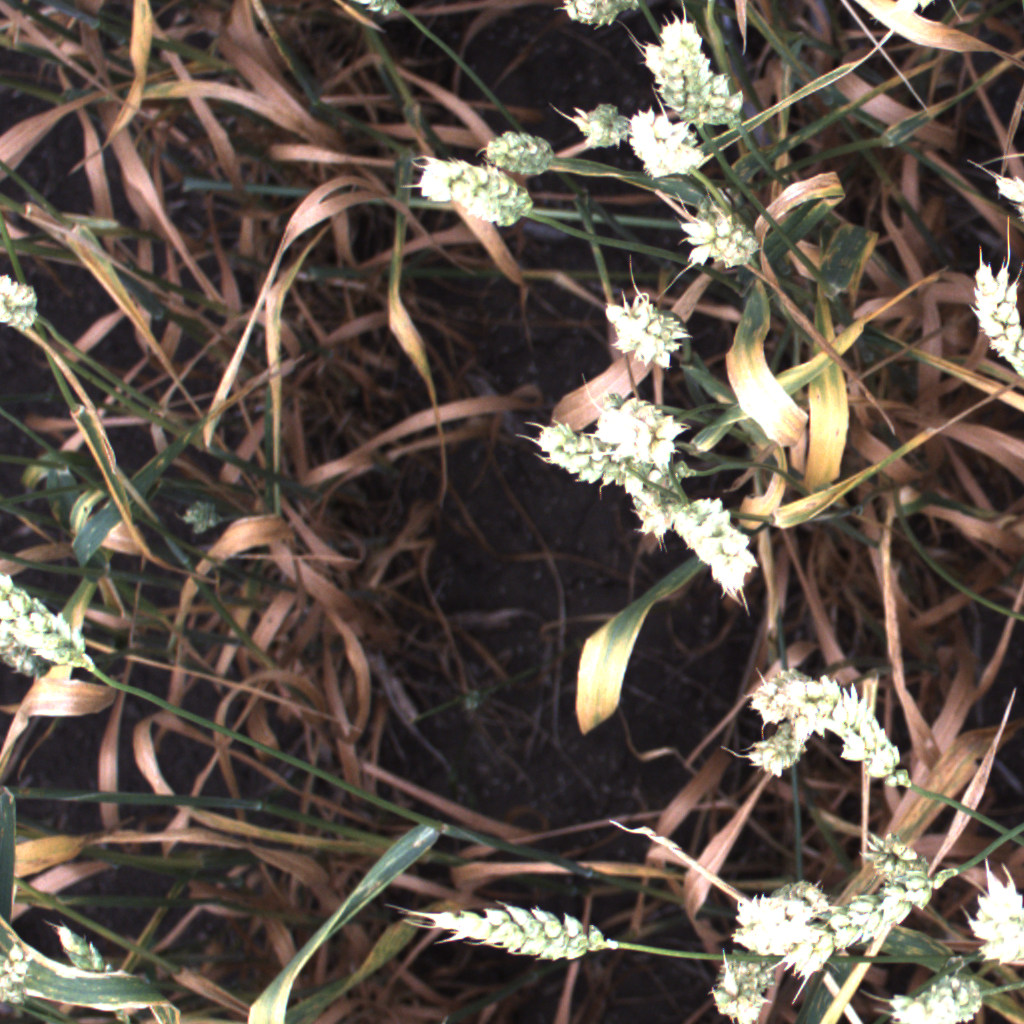wheat_head: (421, 879, 618, 978), (513, 407, 706, 497), (822, 851, 969, 955), (0, 559, 116, 687), (808, 676, 922, 803), (636, 20, 753, 143), (407, 143, 540, 246), (601, 387, 684, 550), (659, 489, 768, 601), (43, 913, 145, 1021), (960, 245, 1024, 406), (592, 282, 695, 382), (613, 97, 719, 194), (737, 696, 846, 786), (673, 188, 773, 284), (729, 895, 824, 983), (956, 865, 1024, 985), (872, 964, 1006, 1024), (588, 392, 684, 474), (696, 941, 782, 1023), (550, 93, 649, 156), (469, 122, 566, 186), (745, 653, 820, 735), (628, 36, 696, 124), (859, 826, 944, 892), (748, 871, 842, 930), (0, 609, 58, 691), (545, 0, 658, 35), (0, 267, 52, 342), (0, 935, 39, 1013), (990, 165, 1024, 231)
